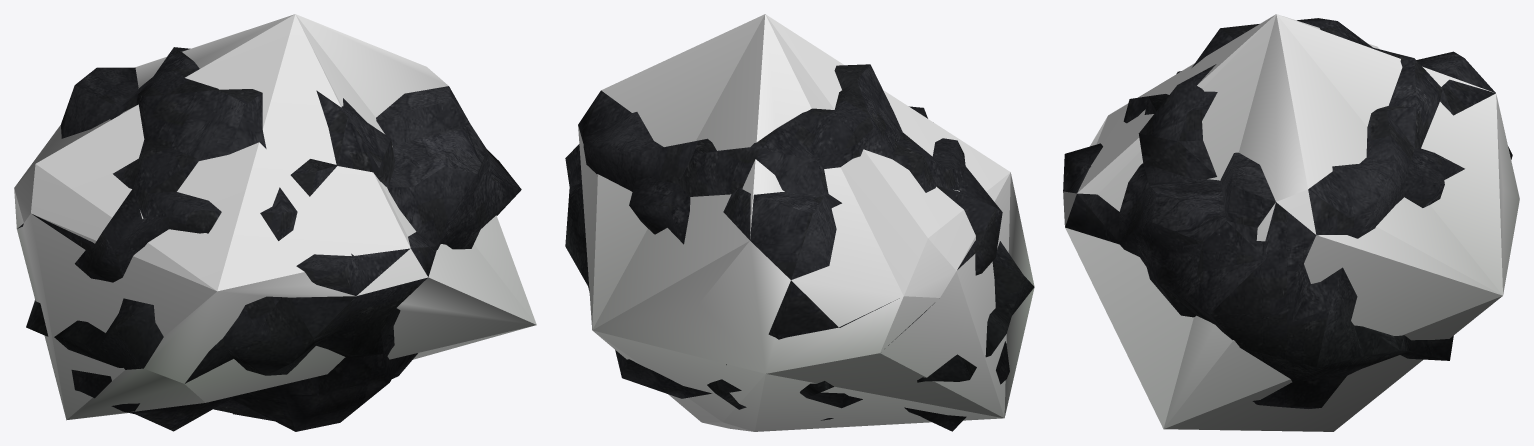
The model's file is shore_rock_a_boulder.glb.
The picture shows the model from 3 angles, left to right: view 1: azimuth 30°, elevation 25°; view 2: azimuth 150°, elevation 25°; view 3: azimuth 270°, elevation 25°; orthographic projection. The views are drawn at different scales.
Parts seen in each view (by area): view 1: col_shore_rock_a_boulder, shore_rock_a_boulder; view 2: col_shore_rock_a_boulder, shore_rock_a_boulder; view 3: col_shore_rock_a_boulder, shore_rock_a_boulder.
Boxes of the visible parts, x1=… form: col_shore_rock_a_boulder: x1=14, y1=14, x2=536, y2=420; shore_rock_a_boulder: x1=17, y1=47, x2=521, y2=431; col_shore_rock_a_boulder: x1=578, y1=14, x2=1034, y2=431; shore_rock_a_boulder: x1=565, y1=64, x2=1034, y2=431; col_shore_rock_a_boulder: x1=1063, y1=14, x2=1519, y2=431; shore_rock_a_boulder: x1=1063, y1=18, x2=1512, y2=408.
Size of the model in its own units: 1.84 by 1.6 by 1.63.
Materials: 1 (1 with a texture image).
